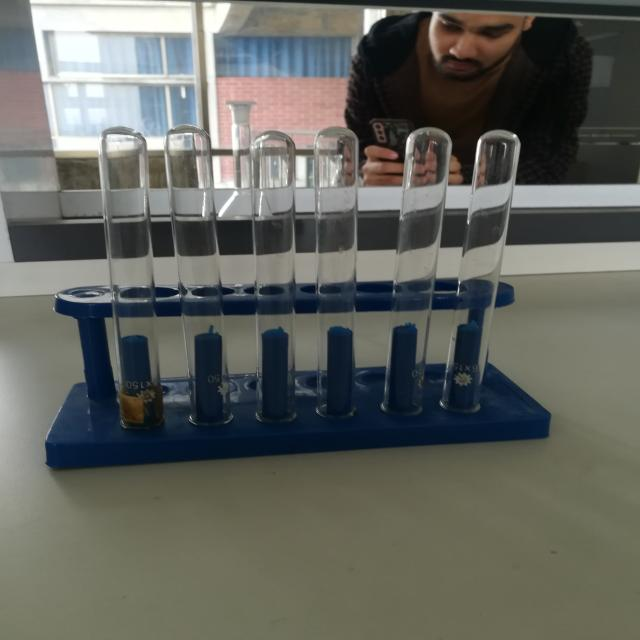Test_Tube: (67, 94, 543, 450)
